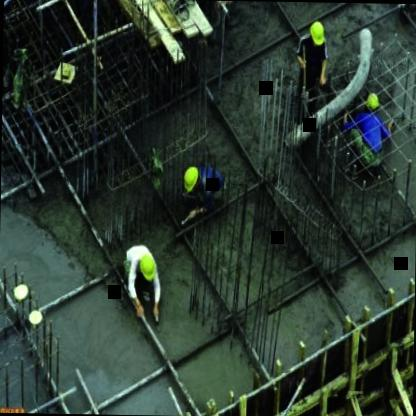helmet: (181, 161, 201, 193), (307, 21, 327, 50), (140, 254, 158, 282), (364, 92, 382, 115)
